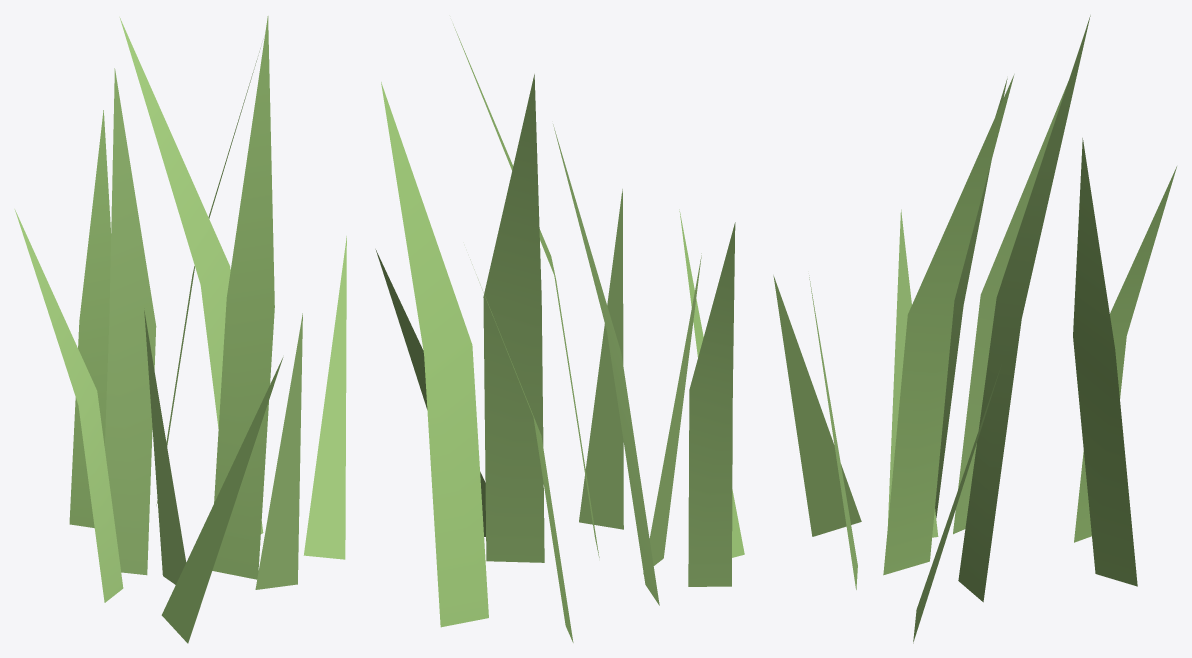
The model's file is Grass_b_OneS_04.fbx.
3 renders of one model, left to right at view 1: azimuth 30°, elevation 25°; view 2: azimuth 150°, elevation 25°; view 3: azimuth 270°, elevation 25°, orthographic. The views are drawn at different scales.
Visible parts, largest first — view 1: Grass_b_OneS_04; view 2: Grass_b_OneS_04; view 3: Grass_b_OneS_04.
Boxes of the visible parts, bbox=[...] form: Grass_b_OneS_04: bbox=[14, 16, 346, 643]; Grass_b_OneS_04: bbox=[375, 24, 744, 642]; Grass_b_OneS_04: bbox=[773, 15, 1176, 643].
Size of the model in its own units: 31.87 by 47.82 by 31.57.
